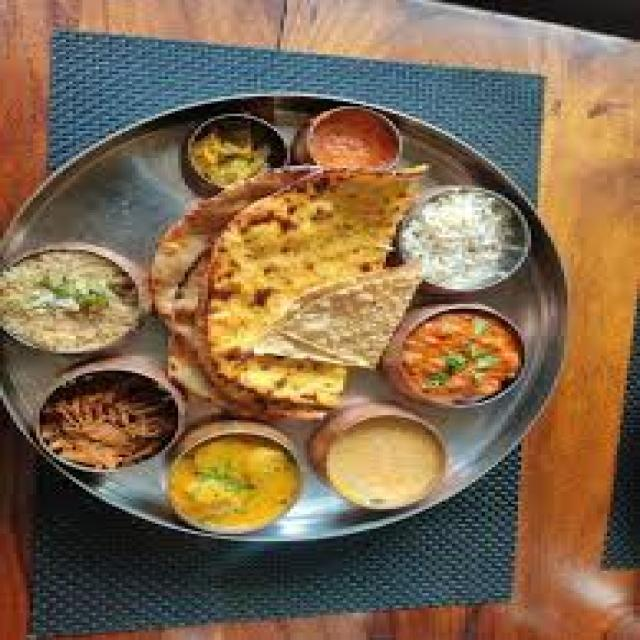curd: (393, 176, 538, 292)
dal: (0, 247, 135, 354)
papad: (200, 172, 402, 334)
raita: (398, 180, 534, 287)
rice: (0, 244, 138, 356)
sweet: (308, 408, 466, 515), (166, 425, 309, 532)
veg-fry: (379, 305, 537, 412), (31, 371, 179, 473)
